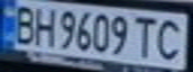0: (90, 10, 112, 54)
6: (72, 9, 93, 53)
9: (109, 11, 133, 56), (54, 7, 78, 51)
B: (6, 1, 39, 45)
C: (151, 16, 190, 63)
H: (30, 3, 57, 47)
T: (130, 13, 160, 60)
